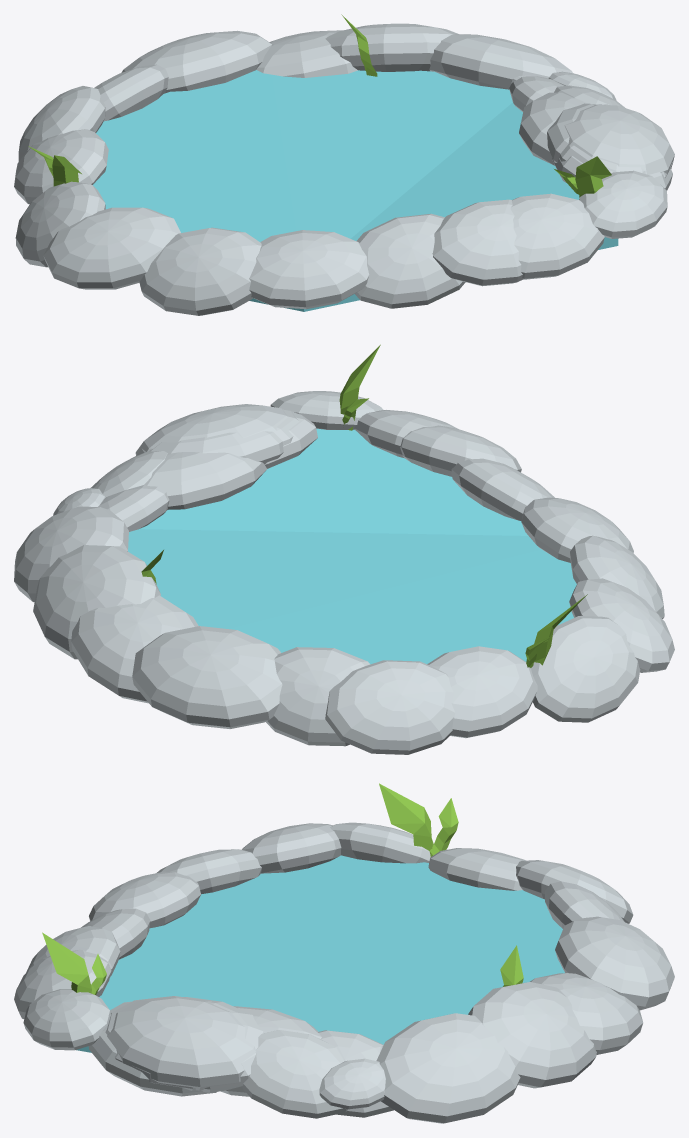
3 views of the same model, one above another, from view 1: azimuth 30°, elevation 25°; view 2: azimuth 150°, elevation 25°; view 3: azimuth 270°, elevation 25° (orthographic). The views are drawn at different scales.
Parts seen in each view (by area): view 1: group_2128670695, mesh_26231952, mesh_743320589, mesh_164451513, mesh_1889028306, mesh_681394806, mesh_73514353, mesh_778839783, mesh_780030395, mesh_1112318016, mesh_1802309608, mesh_1290744084 (+15 smaller); view 2: group_2128670695, mesh_778839783, mesh_1320315396, mesh_812421937, mesh_1290744084, mesh_2096149830, mesh_2100834803, mesh_1797155051, mesh_1112318016, mesh_743320589, mesh_409855037, mesh_164451513 (+13 smaller); view 3: group_2128670695, mesh_1112318016, mesh_780030395, mesh_1290744084, mesh_778839783, mesh_100158876, mesh_2100834803, mesh_1802309608, mesh_164451513, mesh_743320589, mesh_2096149830, mesh_812421937 (+15 smaller).
Part boxes in pixels (box(x1,y1,x2,y2)): group_2128670695: box(93, 70, 618, 311); mesh_26231952: box(139, 227, 261, 315); mesh_743320589: box(43, 207, 180, 289); mesh_164451513: box(249, 230, 369, 309); mesh_1889028306: box(355, 213, 465, 308); mesh_681394806: box(432, 199, 523, 286); mesh_73514353: box(510, 193, 604, 279); mesh_778839783: box(121, 30, 271, 93); mesh_780030395: box(564, 105, 674, 175); mesh_1112318016: box(429, 34, 572, 89); mesh_1802309608: box(579, 170, 667, 238); mesh_1290744084: box(325, 23, 458, 71); group_2128670695: box(128, 428, 576, 664); mesh_778839783: box(132, 626, 282, 728); mesh_1320315396: box(325, 660, 455, 754); mesh_812421937: box(531, 616, 640, 722); mesh_1290744084: box(33, 545, 160, 659); mesh_2096149830: box(427, 646, 537, 738); mesh_2100834803: box(71, 595, 198, 703); mesh_1797155051: box(266, 647, 370, 746); mesh_1112318016: box(14, 506, 128, 602); mesh_743320589: box(569, 578, 674, 672); mesh_409855037: box(144, 452, 266, 509); mesh_164451513: box(521, 497, 633, 562); group_2128670695: box(76, 855, 564, 1052); mesh_1112318016: box(376, 1013, 520, 1123); mesh_780030395: box(107, 996, 256, 1090); mesh_1290744084: box(468, 982, 596, 1088); mesh_778839783: box(555, 916, 674, 1010); mesh_100158876: box(242, 1030, 347, 1118); mesh_2100834803: box(530, 973, 643, 1054); mesh_1802309608: box(23, 989, 110, 1050); mesh_164451513: box(89, 871, 200, 928); mesh_743320589: box(242, 823, 341, 873); mesh_2096149830: box(428, 848, 525, 890); mesh_812421937: box(330, 822, 430, 863).
Bounding box in the file's own units: 30.16 × 6.96 × 29.45.
